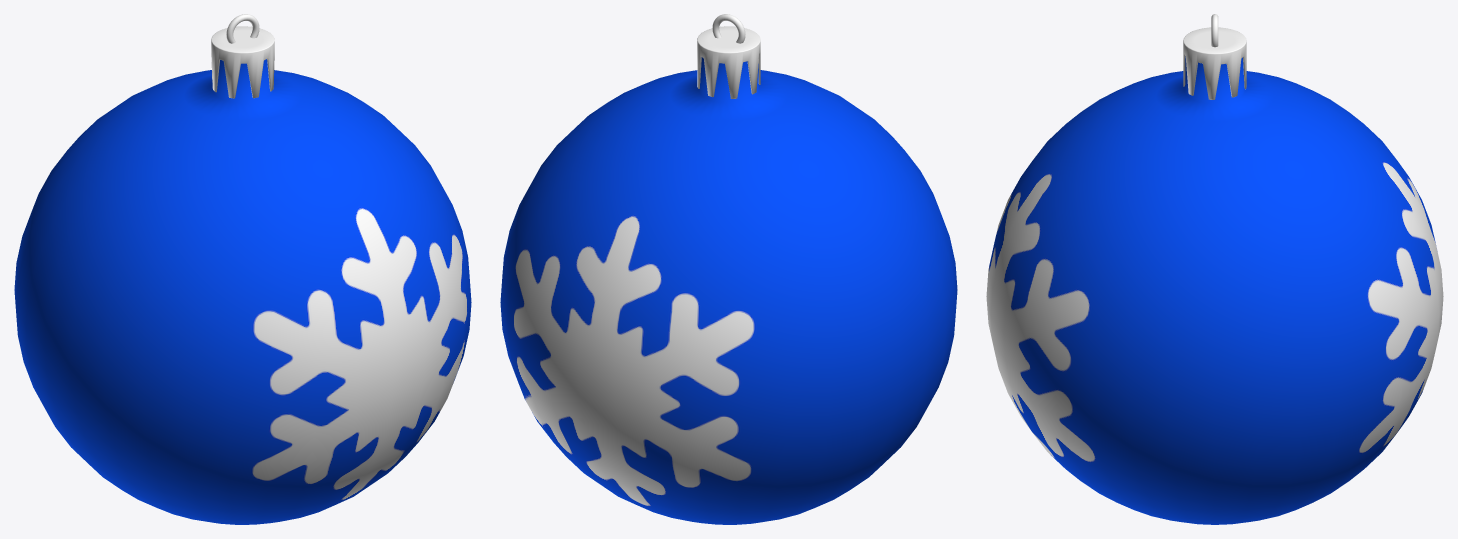
The model's file is blue_ball_snw2.glb.
3 renders of one model, left to right at view 1: azimuth 30°, elevation 25°; view 2: azimuth 150°, elevation 25°; view 3: azimuth 270°, elevation 25°, orthographic.
Parts seen in each view (by area): view 1: Object_3; view 2: Object_3; view 3: Object_3.
Boxes of the visible parts, left/top/right/bottom form: Object_3: left=14, top=14, right=471, bottom=524; Object_3: left=500, top=14, right=957, bottom=524; Object_3: left=986, top=14, right=1443, bottom=524.
Bounding box in the file's own units: 0.0704 × 0.083 × 0.0704.
Materials: 2 (1 with a texture image).
